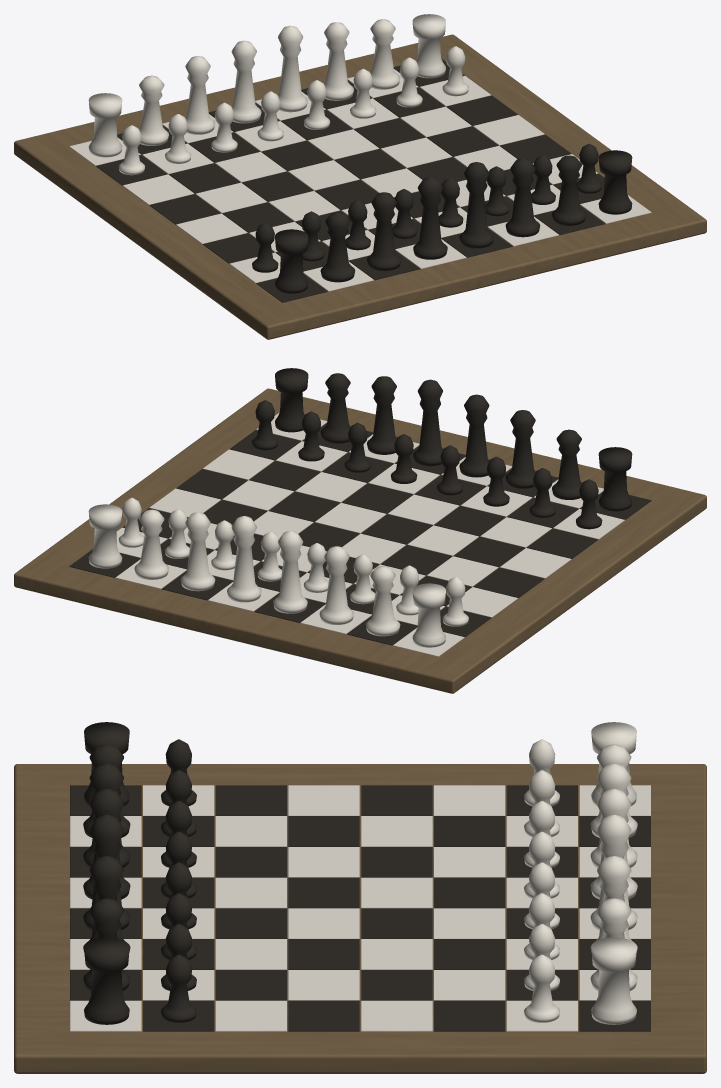
Rendered from result.glb.
The picture shows the model from 3 angles, top to bottom: view 1: azimuth 30°, elevation 25°; view 2: azimuth 150°, elevation 25°; view 3: azimuth 270°, elevation 25°; orthographic projection. The views are drawn at different scales.
Parts seen in each view (by area): view 1: Board, king -1 4, queen -1 3, king 1 4, rook -1 7, rook -1 0, rook 1 0, queen 1 3, bishop -1 5, bishop -1 2, rook 1 7, bishop 1 5 (+64 smaller); view 2: Board, king 1 4, queen 1 3, king -1 4, rook 1 7, rook 1 0, rook -1 0, queen -1 3, bishop 1 5, bishop 1 2, rook -1 7, bishop -1 5 (+64 smaller); view 3: Board, rook -1 7, rook 1 7, Square 3 3, Square 3 4, Square 7 3, Square 7 4, Square 7 2, Square 7 5, Square 3 2, Square 3 5, Square 0 2 (+85 smaller).
Part boxes in pixels (bbox=[...]): Board: bbox=[14, 34, 706, 339]; king -1 4: bbox=[459, 162, 493, 248]; queen -1 3: bbox=[413, 177, 447, 259]; king 1 4: bbox=[277, 25, 307, 112]; rook -1 7: bbox=[598, 150, 632, 214]; rook -1 0: bbox=[275, 229, 308, 293]; rook 1 0: bbox=[88, 93, 122, 157]; queen 1 3: bbox=[231, 40, 261, 123]; bishop -1 5: bbox=[505, 158, 540, 237]; bishop -1 2: bbox=[367, 192, 401, 270]; rook 1 7: bbox=[412, 14, 445, 78]; bishop 1 5: bbox=[324, 22, 353, 100]; Board: bbox=[14, 388, 706, 693]; king 1 4: bbox=[227, 516, 261, 602]; queen 1 3: bbox=[273, 531, 307, 613]; king -1 4: bbox=[413, 379, 443, 466]; rook 1 7: bbox=[88, 504, 122, 568]; rook 1 0: bbox=[412, 583, 445, 647]; rook -1 0: bbox=[598, 447, 632, 511]; queen -1 3: bbox=[459, 394, 489, 477]; bishop 1 5: bbox=[180, 512, 215, 591]; bishop 1 2: bbox=[319, 546, 353, 624]; rook -1 7: bbox=[275, 368, 308, 432]; bishop -1 5: bbox=[367, 376, 396, 454]; Board: bbox=[14, 764, 706, 1073]; rook -1 7: bbox=[84, 937, 129, 1024]; rook 1 7: bbox=[591, 937, 636, 1024]; Square 3 3: bbox=[288, 877, 359, 908]; Square 3 4: bbox=[361, 877, 432, 908]; Square 7 3: bbox=[288, 1000, 359, 1031]; Square 7 4: bbox=[361, 1000, 432, 1031]; Square 7 2: bbox=[215, 1000, 286, 1031]; Square 7 5: bbox=[434, 1000, 505, 1031]; Square 3 2: bbox=[215, 877, 286, 908]; Square 3 5: bbox=[434, 877, 505, 908]; Square 0 2: bbox=[215, 785, 286, 815].
Bounding box in the file's own units: 1 × 0.205 × 1.
97 materials, 97 textured.
